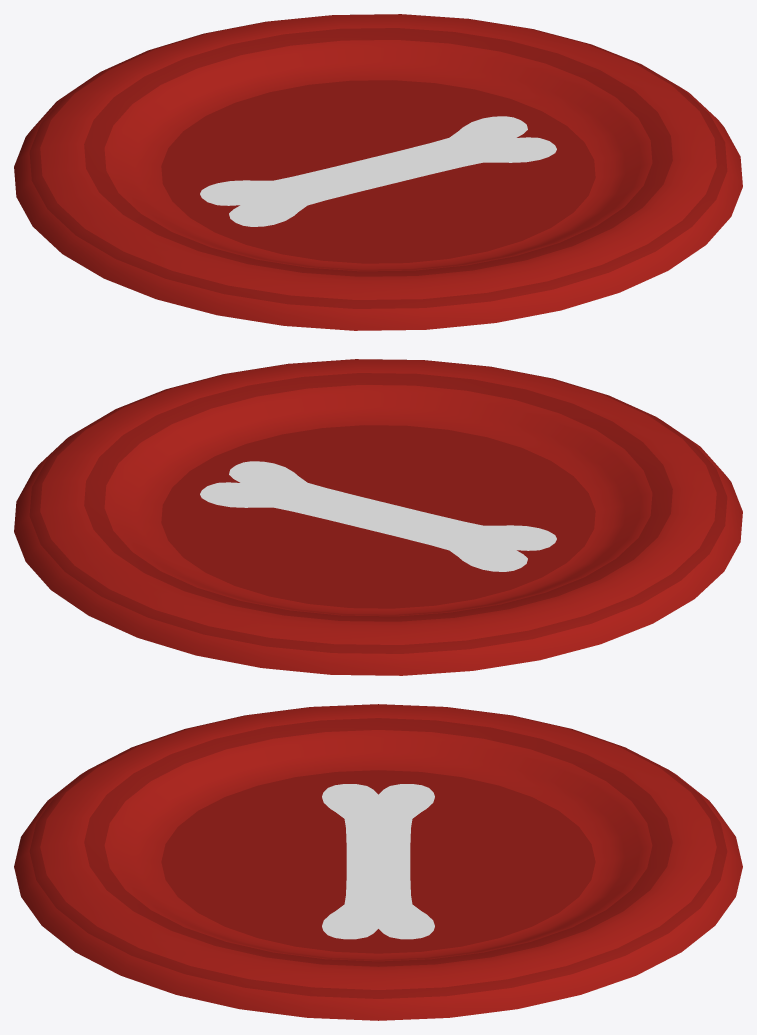
File: SM_Frisbee_01.fbx
The picture shows the model from 3 angles, top to bottom: view 1: azimuth 30°, elevation 25°; view 2: azimuth 150°, elevation 25°; view 3: azimuth 270°, elevation 25°; orthographic projection.
Parts seen in each view (by area): view 1: Disk_01; view 2: Disk_01; view 3: Disk_01.
Part boxes in pixels (x1,y1,x2,y2): Disk_01: (14, 14, 742, 330); Disk_01: (14, 359, 742, 675); Disk_01: (14, 704, 742, 1020).
Bounding box in the file's own units: 137 × 5.11 × 137.
